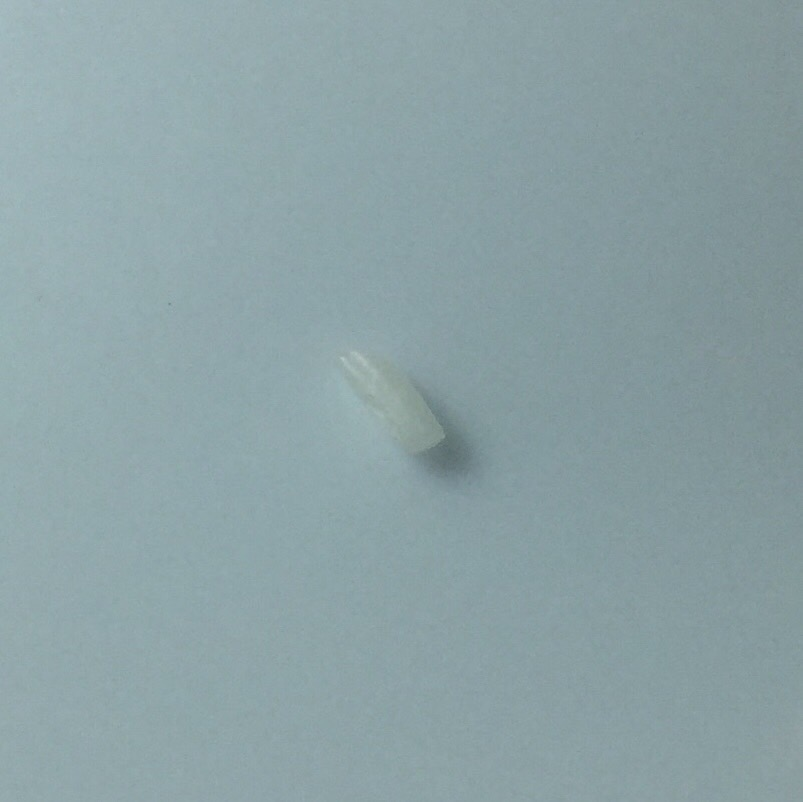Gao Tam: (335, 332, 456, 470)
